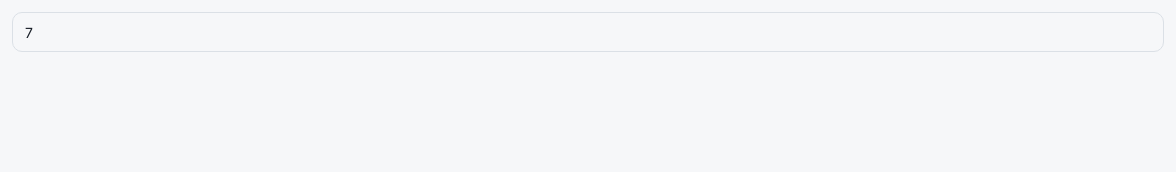
Test: PageInput › descarta o rascunho no Esc
Replace the text in the number field named "Página atual" with "20" at {"x": 588, "y": 32}, box [12,12,1164,52]
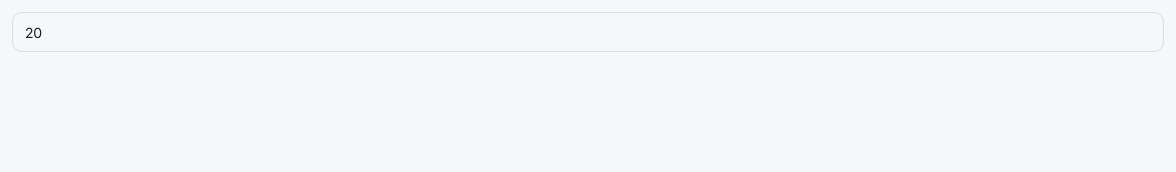
Press Escape in the number field named "Página atual", box [12,12,1164,52]
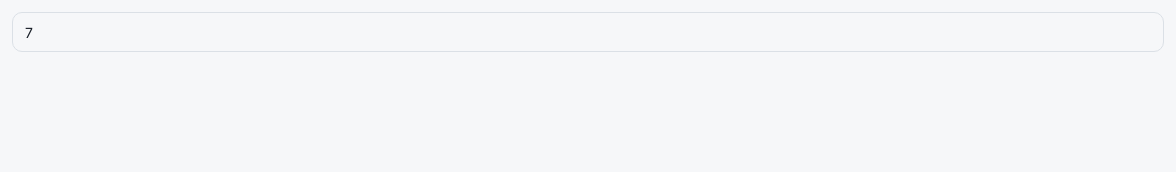
Check: the number field named "Página atual" holds "7", box [12,12,1164,52]
